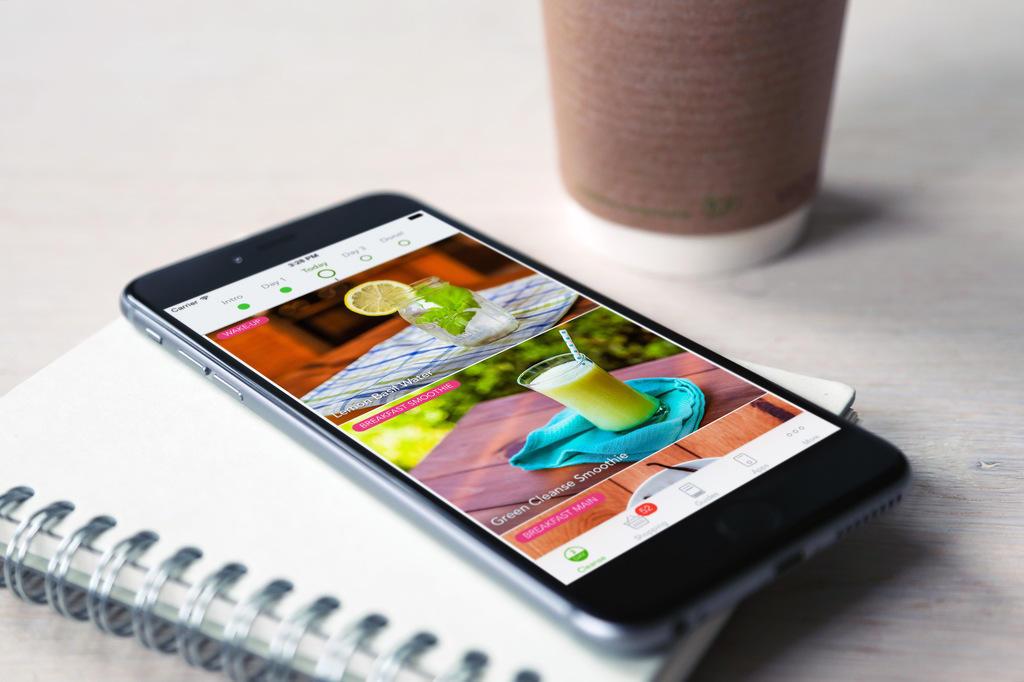Mobile-phone: (120, 186, 915, 658)
